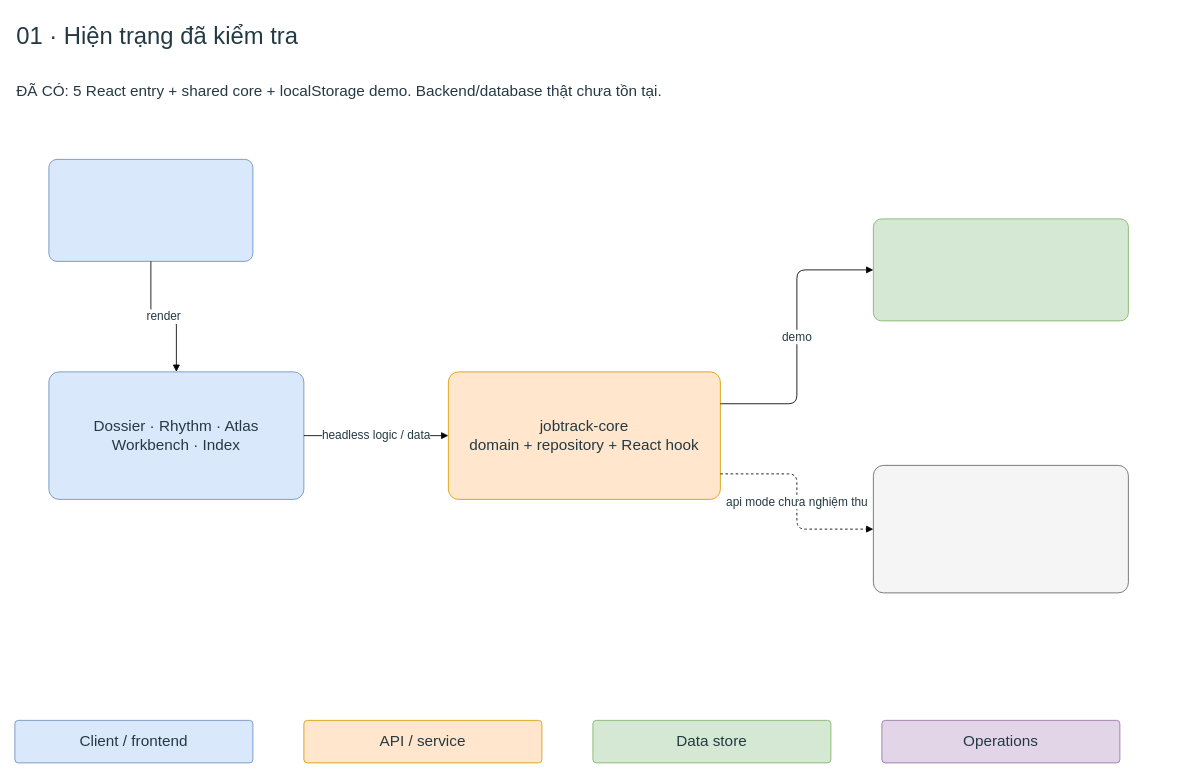
Some shapes in this 1186 by 778 pixel diagram are drawn without their labels. Here are the shapes that lost their labels. From the top down, the centre of each, then its label:
At pixel 150 210: "Desktop / mobile browser".
At pixel 1000 269: "localStorage synthetic preview data".
At pixel 1000 529: "/api adapter + API.md CONTRACT ONLY No running backend".
